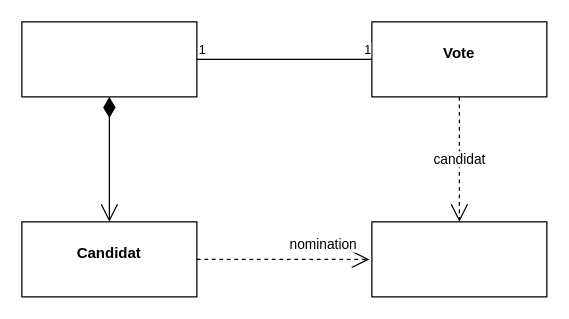
Image size: 569x319. Some labels were removed from this diagram. The shapes that lost their labels are listed below. From the top down, each one's centre as x and y in pixels, then its label:
At pixel 109 59: "Voter".
At pixel 459 259: "Election Commission".
